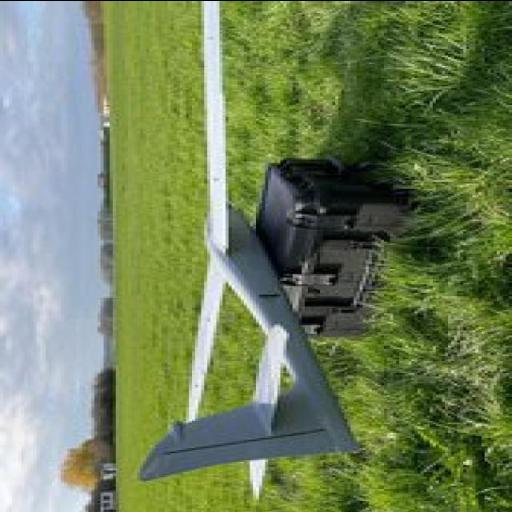uav: (121, 0, 353, 499)
